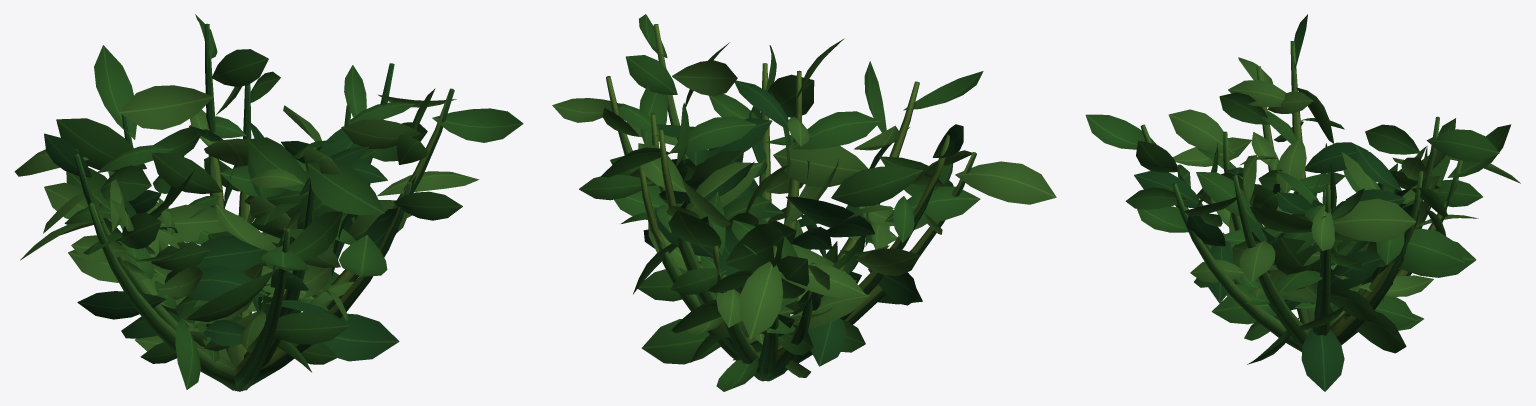
The model's file is Green_shrub_2.glb.
3 views of the same model, side by side, from view 1: azimuth 30°, elevation 25°; view 2: azimuth 150°, elevation 25°; view 3: azimuth 270°, elevation 25° (orthographic). The views are drawn at different scales.
Parts seen in each view (by area): view 1: Green_shrub_2_Leaves.004, Green_shrub_2_Stems.004; view 2: Green_shrub_2_Leaves.004, Green_shrub_2_Stems.004; view 3: Green_shrub_2_Leaves.004, Green_shrub_2_Stems.004.
Boxes of the visible parts, x1,y1,x2,y2 form: Green_shrub_2_Leaves.004: (14,14,523,389); Green_shrub_2_Stems.004: (74,23,454,391); Green_shrub_2_Leaves.004: (552,14,1056,391); Green_shrub_2_Stems.004: (606,24,976,381); Green_shrub_2_Leaves.004: (1085,14,1520,391); Green_shrub_2_Stems.004: (1140,41,1462,351).
Bounding box in the file's own units: 1.59 × 0.9705 × 1.47.
Materials: 1 (1 with a texture image).
